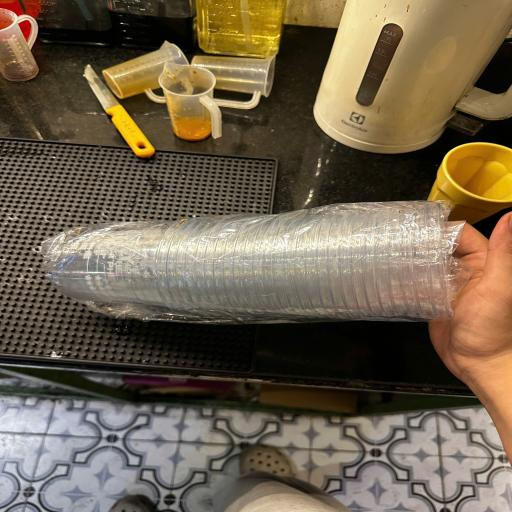ly_nhua: (29, 204, 512, 326)
